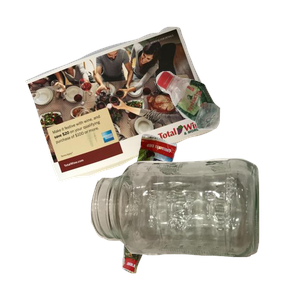glass: (88, 156, 300, 300)
paper: (23, 24, 232, 199)
plastic: (153, 68, 300, 190)
trash: (120, 131, 290, 300)
